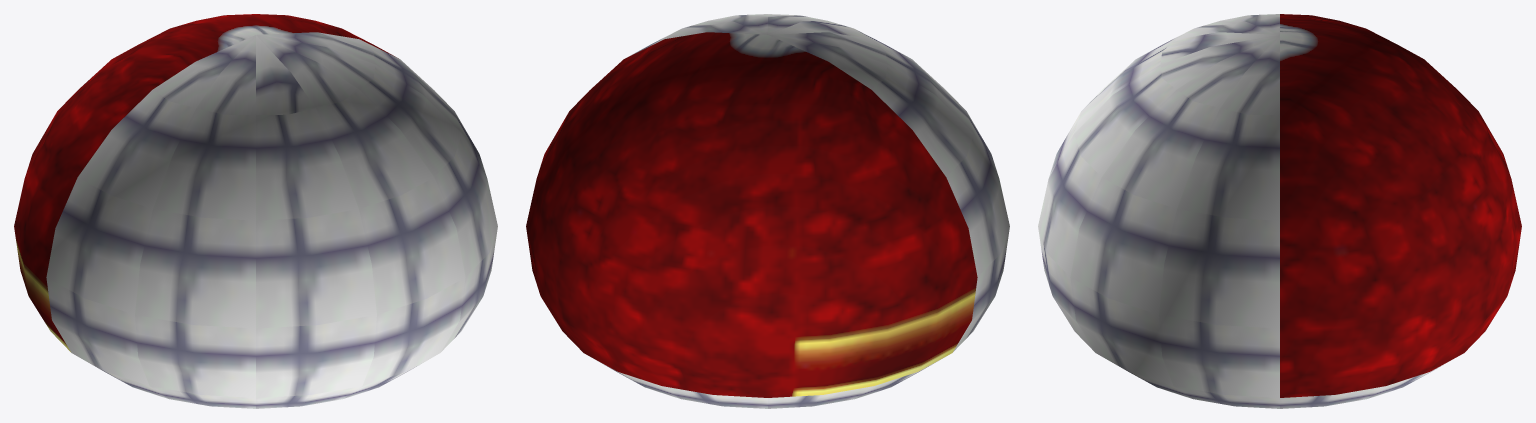
File: ICO0.ICO.obj
3 views of the same model, side by side, from view 1: azimuth 30°, elevation 25°; view 2: azimuth 150°, elevation 25°; view 3: azimuth 270°, elevation 25° (orthographic).
Size of the model in its own units: 4.16 by 3.2 by 4.16.
